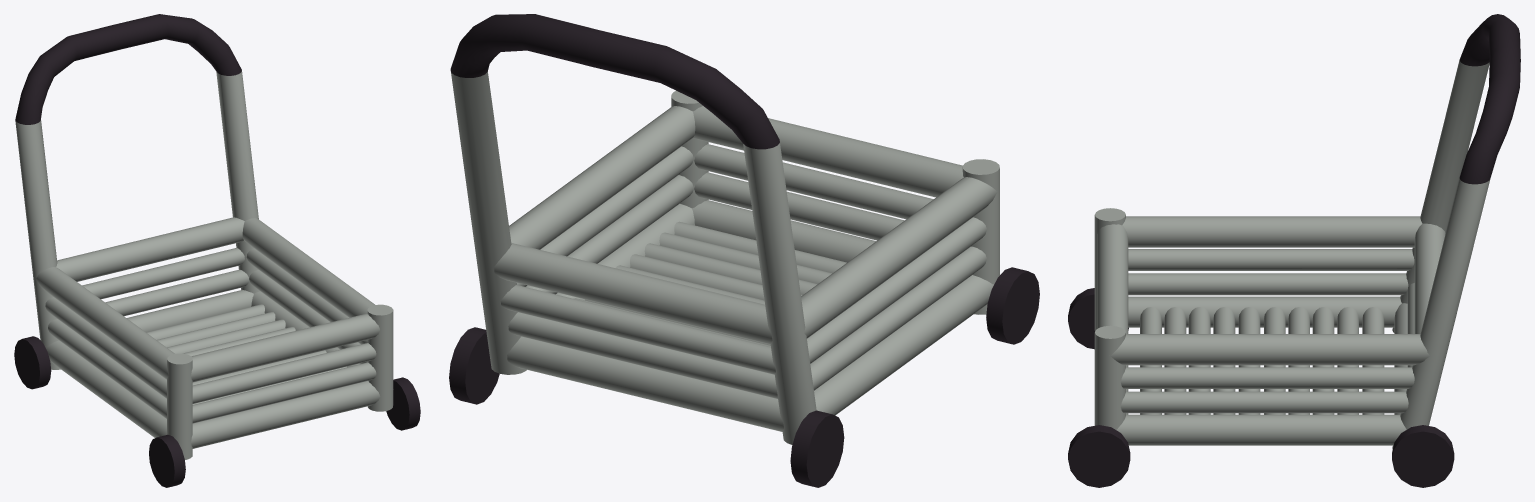
Rendered from Pallet.fbx.
3 renders of one model, left to right at view 1: azimuth 30°, elevation 25°; view 2: azimuth 150°, elevation 25°; view 3: azimuth 270°, elevation 25°, orthographic. The views are drawn at different scales.
Parts seen in each view (by area): view 1: Pallet; view 2: Pallet; view 3: Pallet.
Boxes of the visible parts, left/top/right/bottom form: Pallet: left=14, top=14, right=420, bottom=487; Pallet: left=449, top=14, right=1039, bottom=487; Pallet: left=1068, top=14, right=1520, bottom=487.
Bounding box in the file's own units: 2.19 × 2.62 × 2.91.
